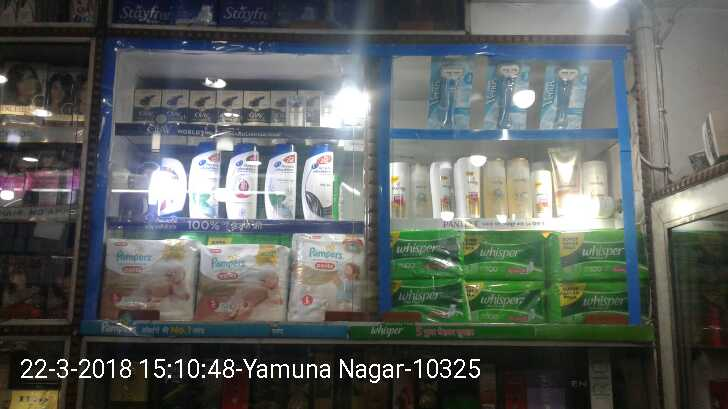venus: (543, 60, 591, 129), (427, 58, 471, 130), (485, 60, 530, 129)
